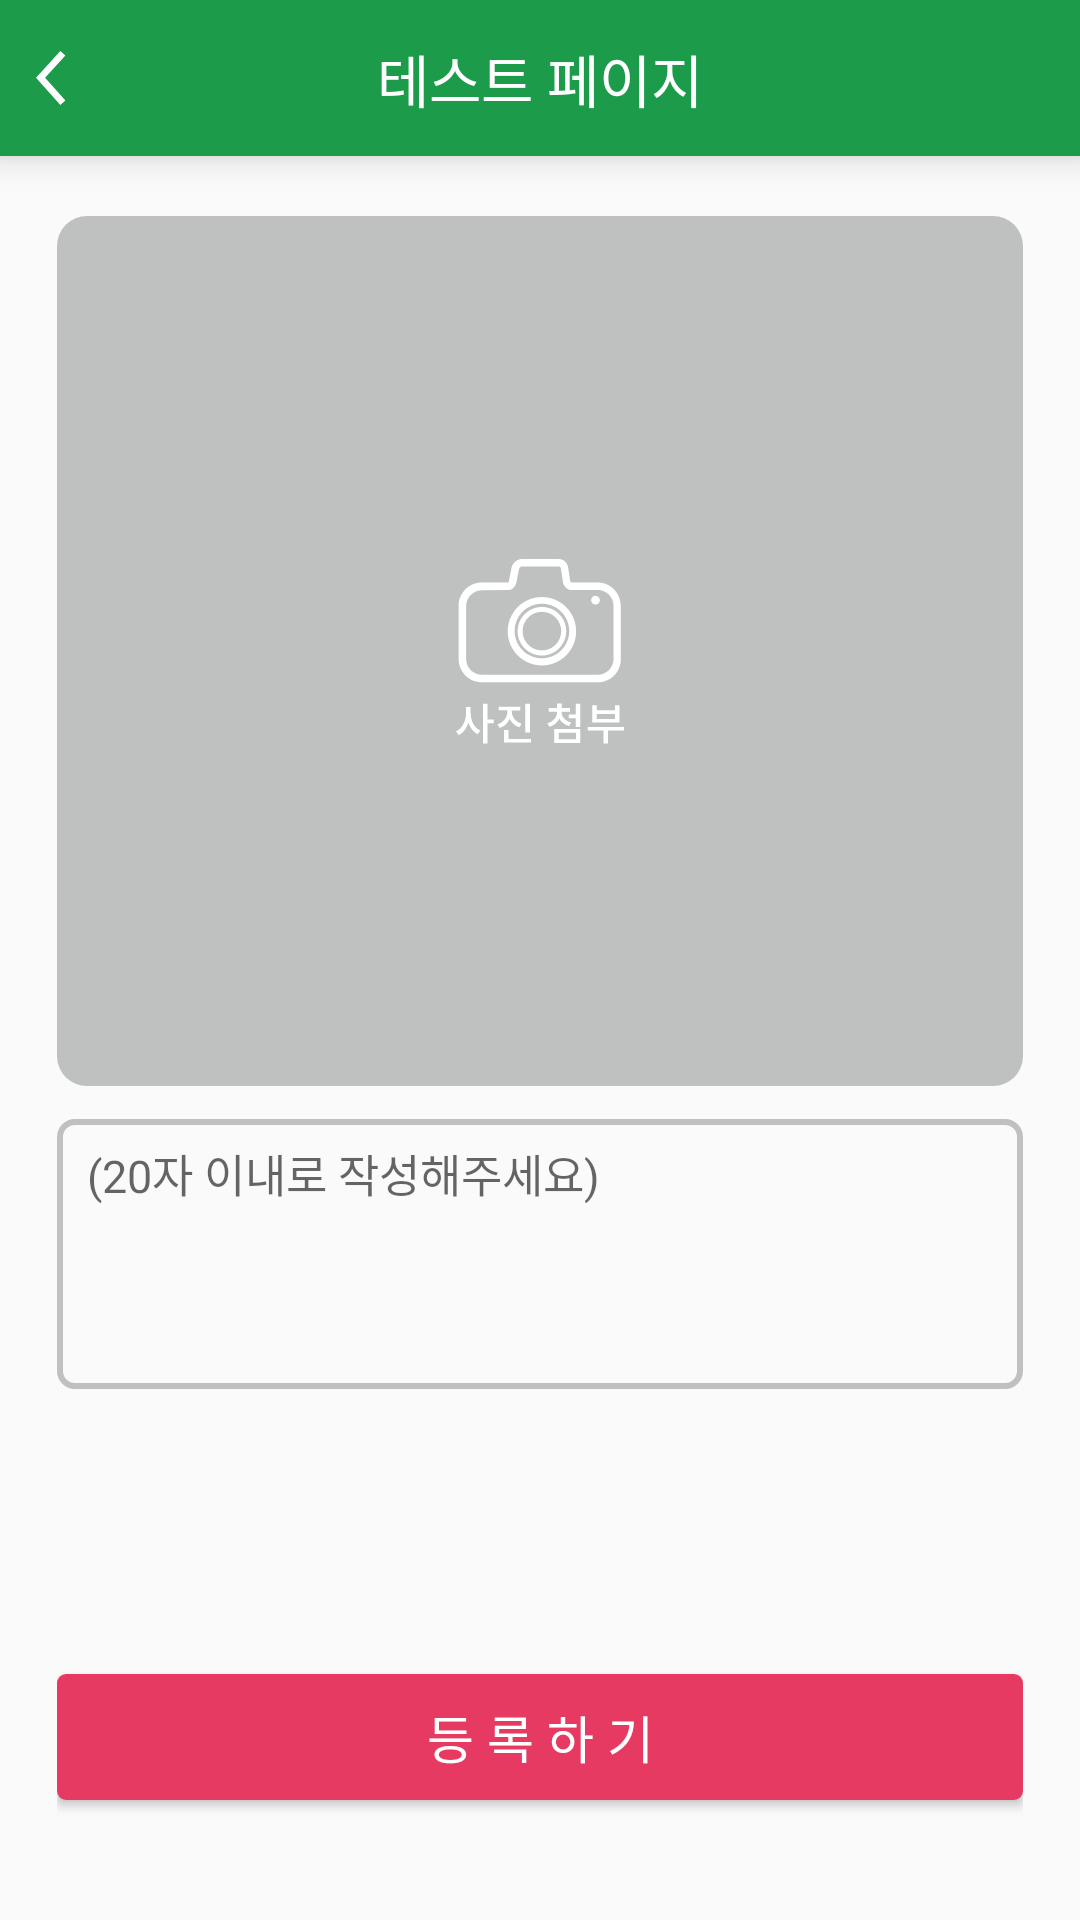

Screen size 1080*1920. Icon name, then its center in pixels as point (x, y):
back: point (51, 78)
